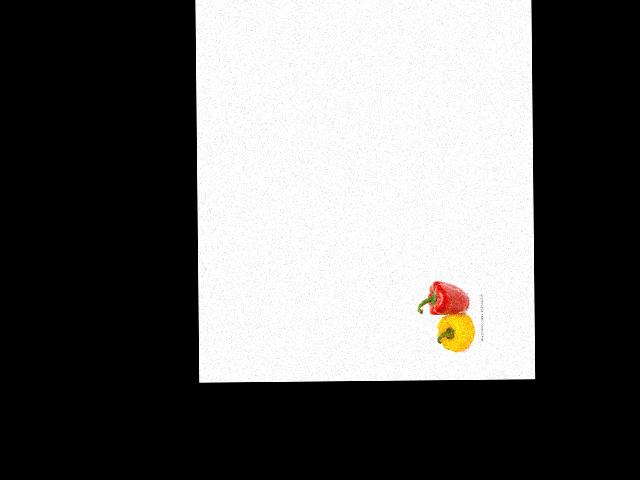bell_pepper: (433, 311, 478, 354)
